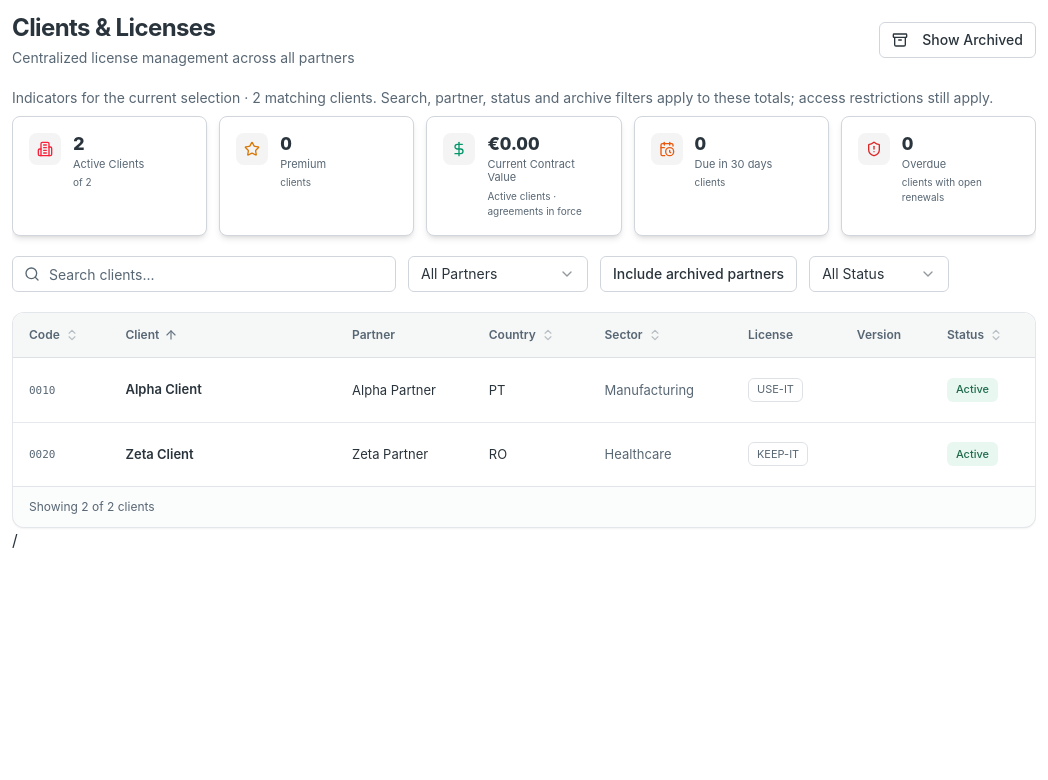
Shared directory table presentation and behavior › preserves client search and changes the sorting without remounting a header component
Click the button with aria-label "Sort by Client".
click(152, 335)  # box [126, 321, 178, 349]
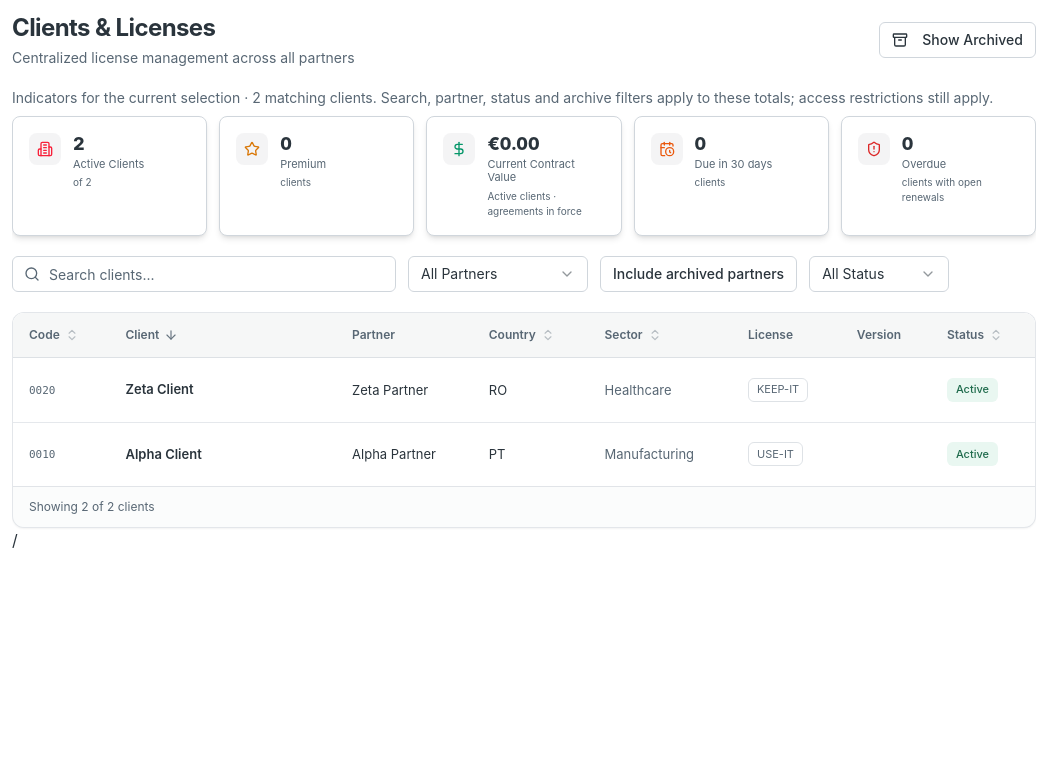
Check: the row "0020 Zeta Client Zeta Partner RO Healthcare KEEP-IT Active" is shown, box [13, 358, 1035, 422]
Type "Alpha" into the field with placeholder "Search clients...".
click(204, 274); type("Alpha")  # box [12, 256, 396, 292]
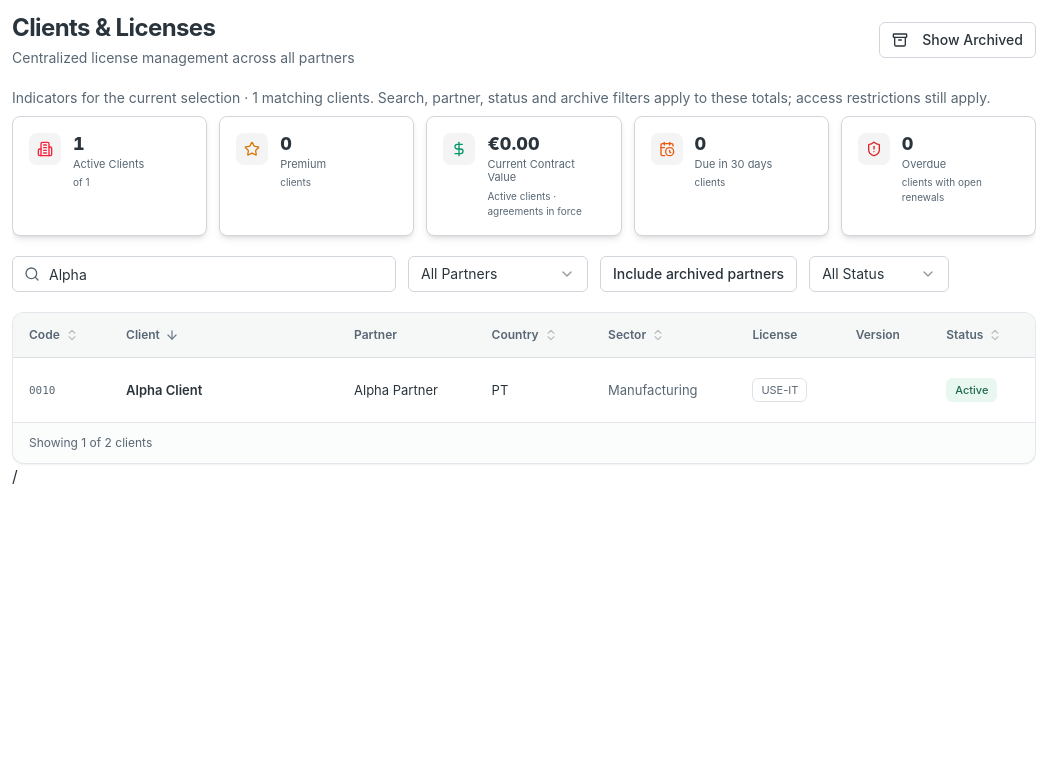
Check: the button with aria-label "Open client Alpha Client" is shown, box [126, 381, 202, 399]
Check: the button "Zeta Client" is gone
